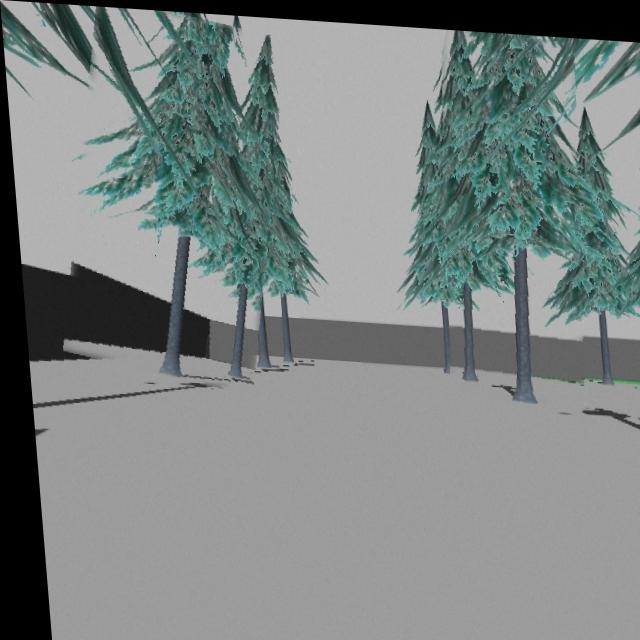tree: (74, 11, 264, 376), (443, 25, 577, 397)
